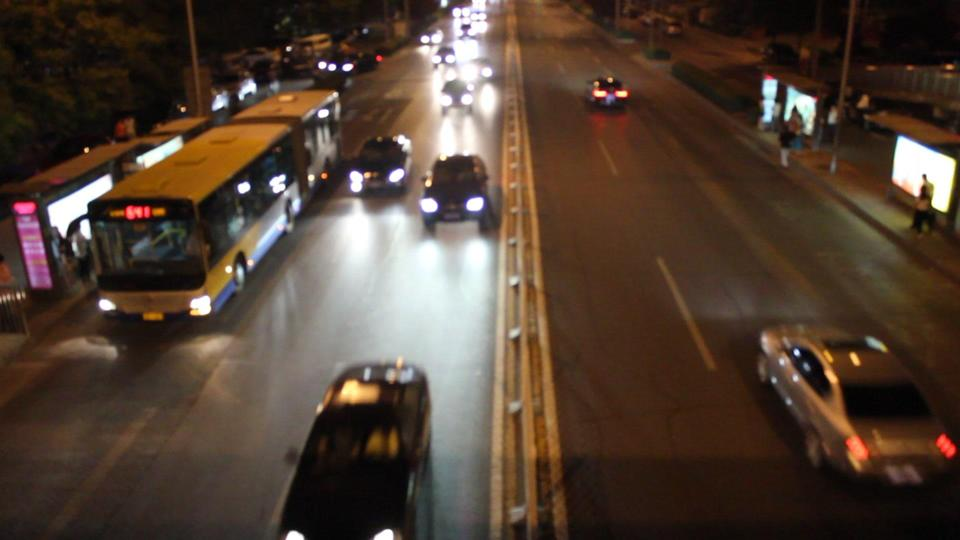bus: (66, 89, 341, 333)
car: (757, 320, 960, 492), (274, 358, 432, 540), (345, 134, 412, 199), (583, 75, 628, 111)
suv: (418, 154, 489, 238)
